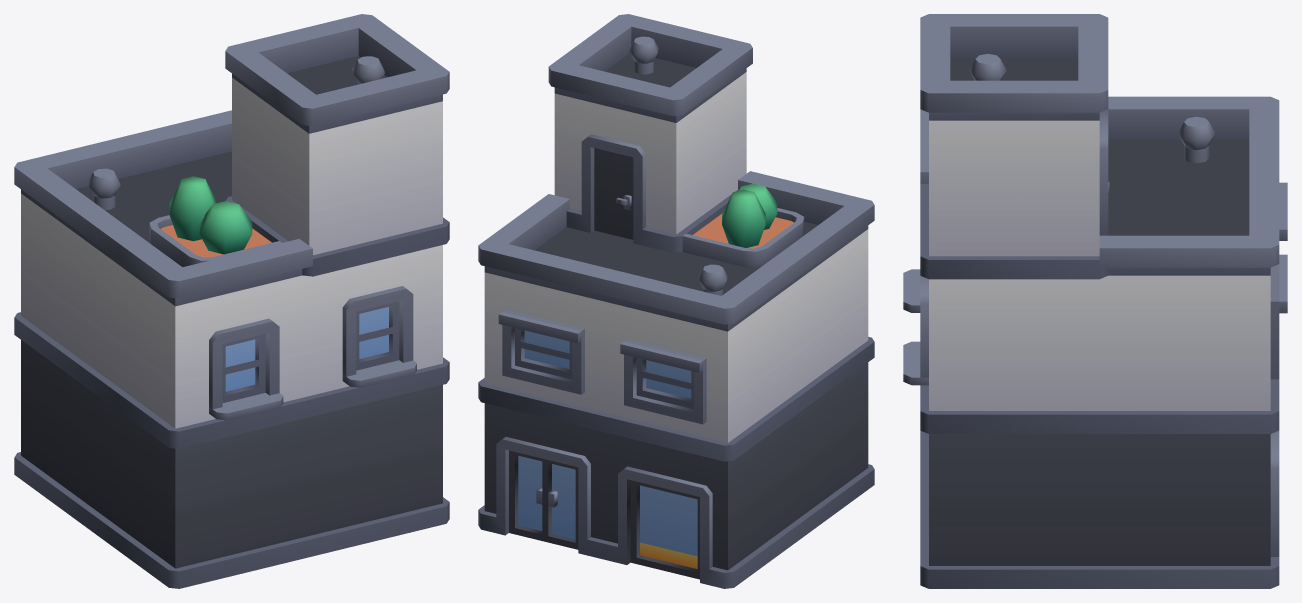
File: building-d.glb
3 renders of one model, left to right at view 1: azimuth 30°, elevation 25°; view 2: azimuth 150°, elevation 25°; view 3: azimuth 270°, elevation 25°, orthographic. The views are drawn at different scales.
Parts seen in each view (by area): view 1: building-d; view 2: building-d; view 3: building-d.
Boxes of the visible parts, <box> form: building-d: <box>14,14,449,588</box>; building-d: <box>478,14,874,588</box>; building-d: <box>903,14,1287,588</box>.
Bounding box in the file's own units: 0.84 × 1.29 × 0.9.
Materials: 1 (1 with a texture image).
